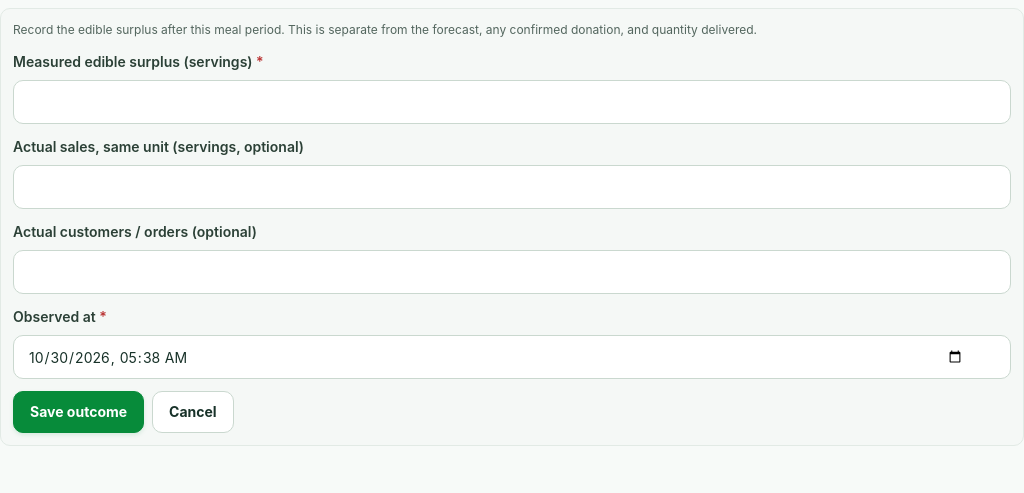
Scenario: ForecastOutcomeForm › shows a validation error and does not submit invalid surplus
Type "-1" into the number field labelled "Measured edible surplus (servings) *" at (512, 102), box x1=13 y1=80 x2=1011 y2=124
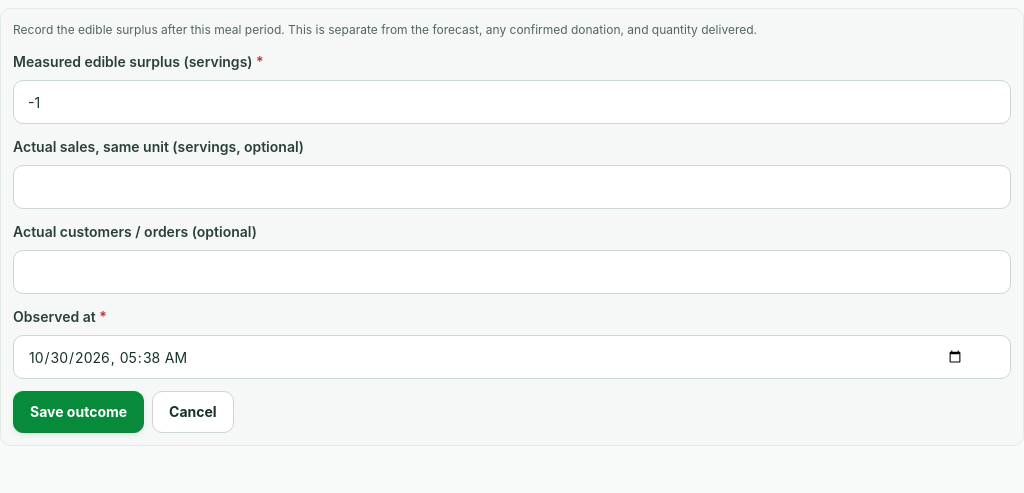
Submit the form named "Save outcome"
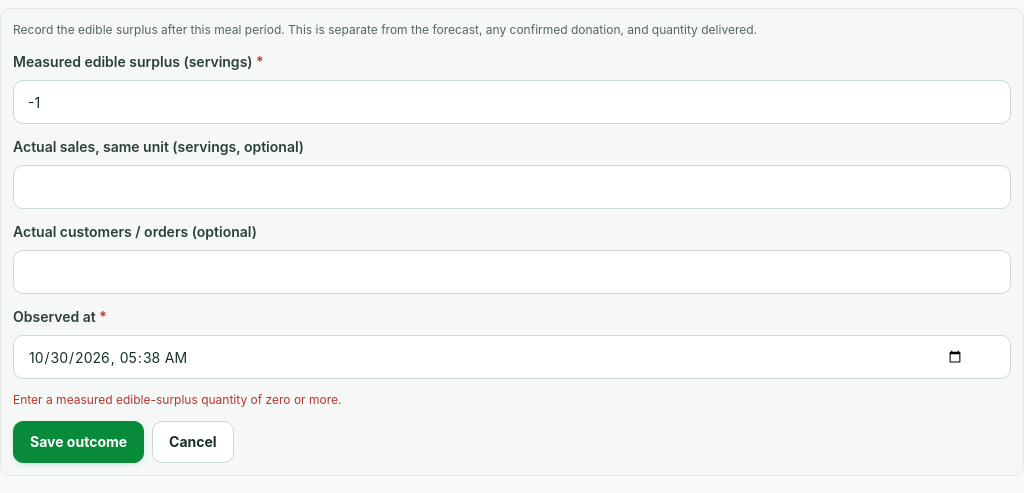
Now the message shows "surplus quantity", box x1=13 y1=392 x2=342 y2=407
